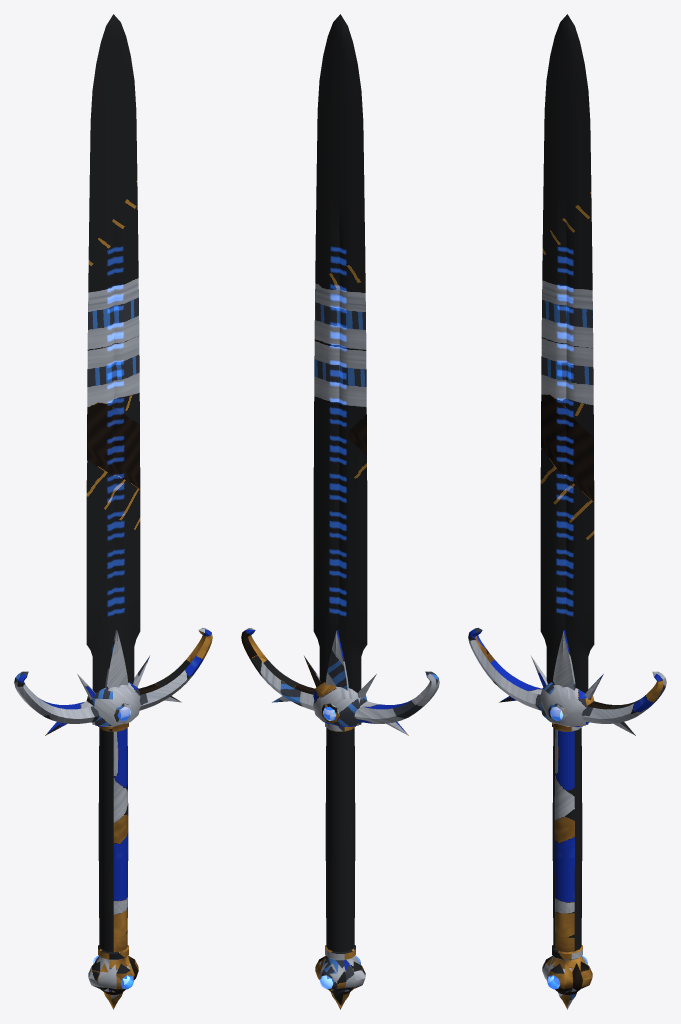
The model's file is SM_Weapon_FppSword.fbx.
3 renders of one model, left to right at view 1: azimuth 30°, elevation 25°; view 2: azimuth 150°, elevation 25°; view 3: azimuth 330°, elevation 25°, orthographic.
Visible parts, largest first — view 1: SM_Weapon_FppSword; view 2: SM_Weapon_FppSword; view 3: SM_Weapon_FppSword.
Part boxes in pixels (x1,y1,x2,y2): SM_Weapon_FppSword: (14, 14, 212, 1009); SM_Weapon_FppSword: (241, 14, 439, 1009); SM_Weapon_FppSword: (468, 14, 666, 1009).
Size of the model in its own units: 0.2435 by 1.19 by 0.069.
